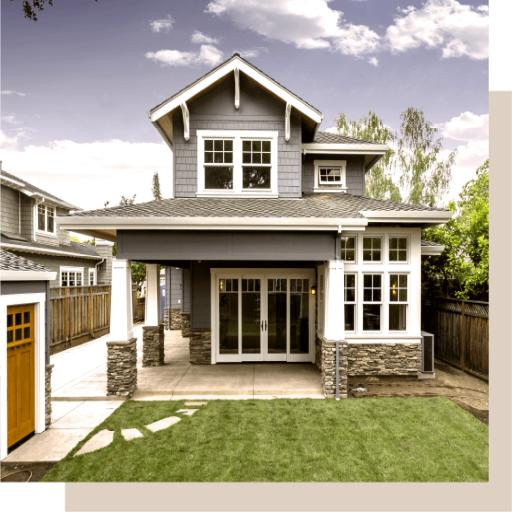casa: (83, 57, 434, 377)
